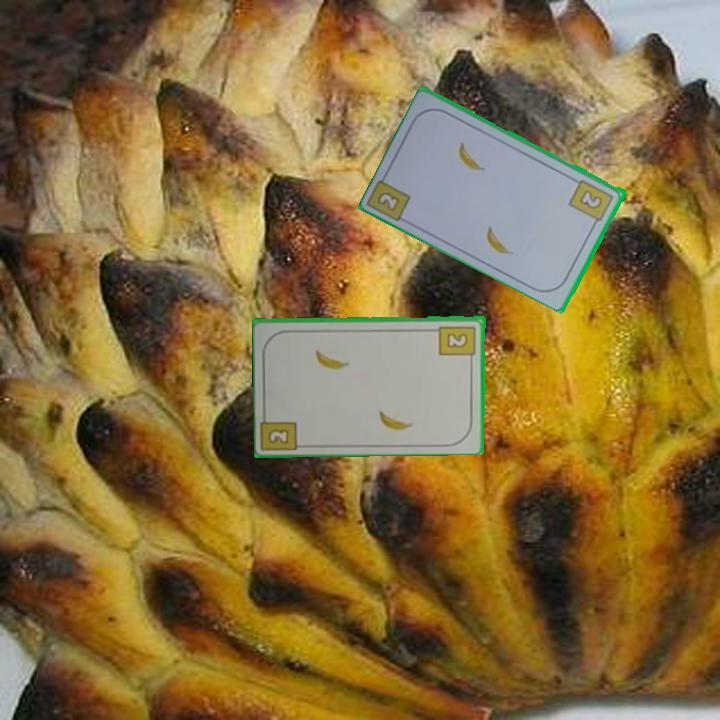2b: (566, 176, 617, 229), (436, 322, 479, 364), (373, 188, 403, 214), (264, 425, 292, 446)
